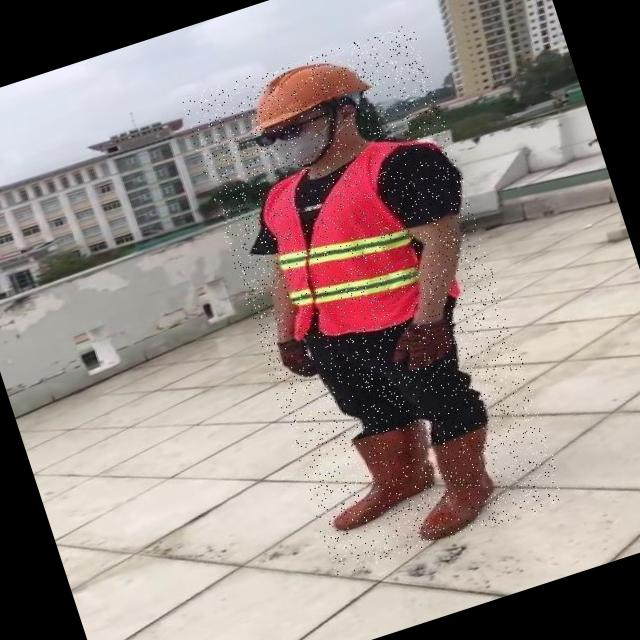hard_hat: (233, 41, 379, 139)
safety_vest: (250, 132, 467, 354)
vehicle: (180, 23, 568, 577)
work_boots: (311, 418, 446, 535), (396, 426, 518, 544)
